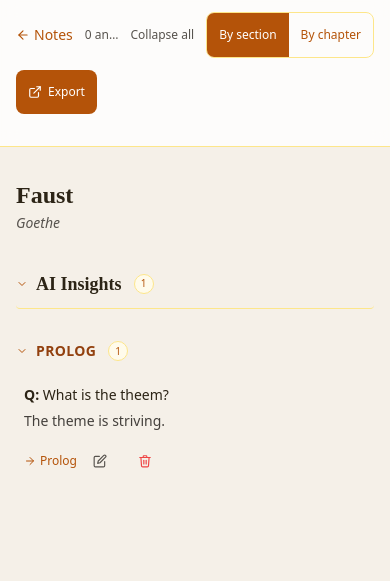
Test: editing an insight question saves via the API and updates the view
Check: the text "What is the theem?" is shown, box [43, 385, 169, 404]
Step 1. Click the button named "edit insight question" → (100, 461), box [89, 439, 111, 483]
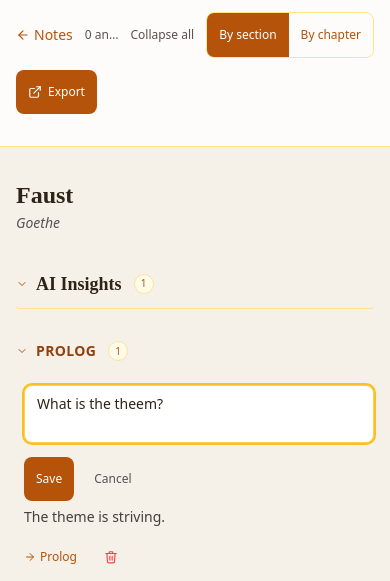
Step 2. Replace the text in the text box named "Edit question" with "What is the theme?" → (199, 414), box [24, 385, 374, 443]
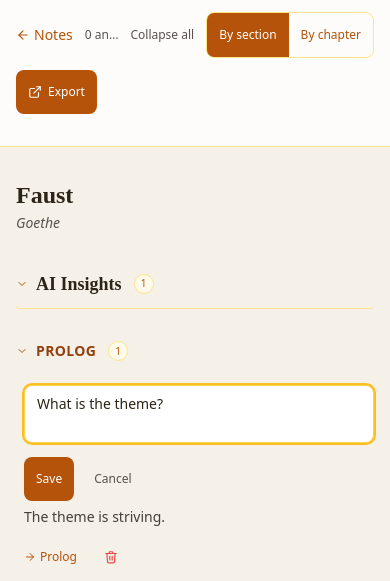
Step 3. Click the button "Save" → (49, 479), box [24, 457, 74, 501]
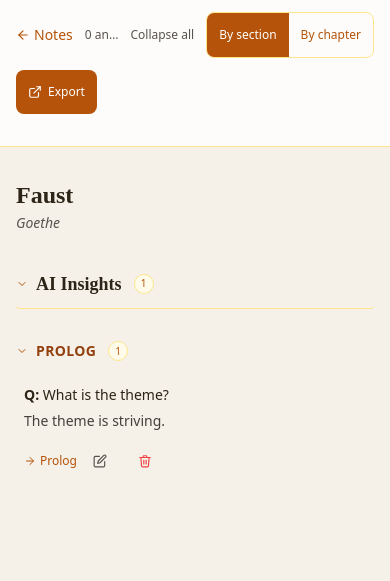
Check: the text "What is the theme?" is shown, box [43, 385, 169, 404]
